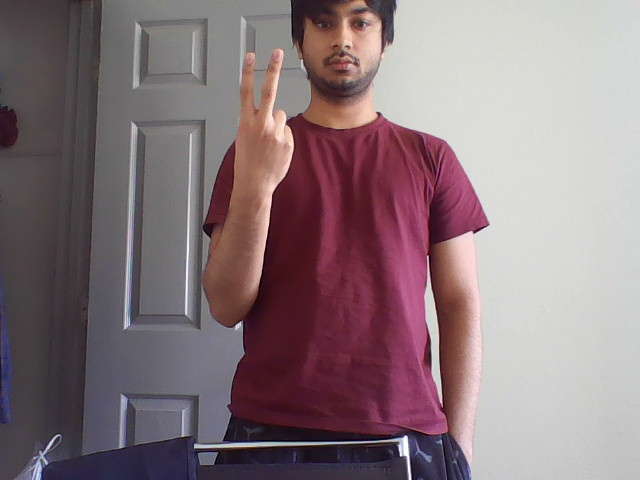two: (227, 41, 291, 136)
